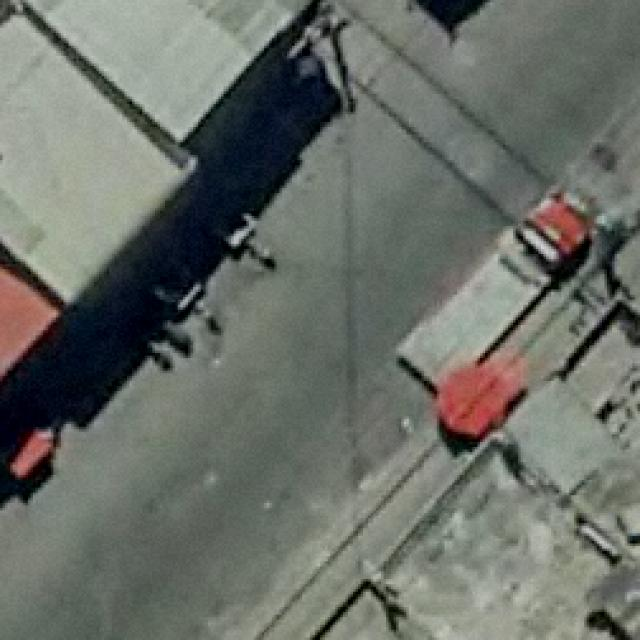vendedor_ambulante: (435, 363, 507, 443)
